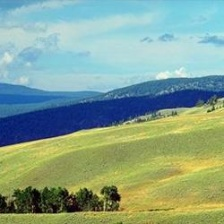neutral: (3, 2, 221, 224)
